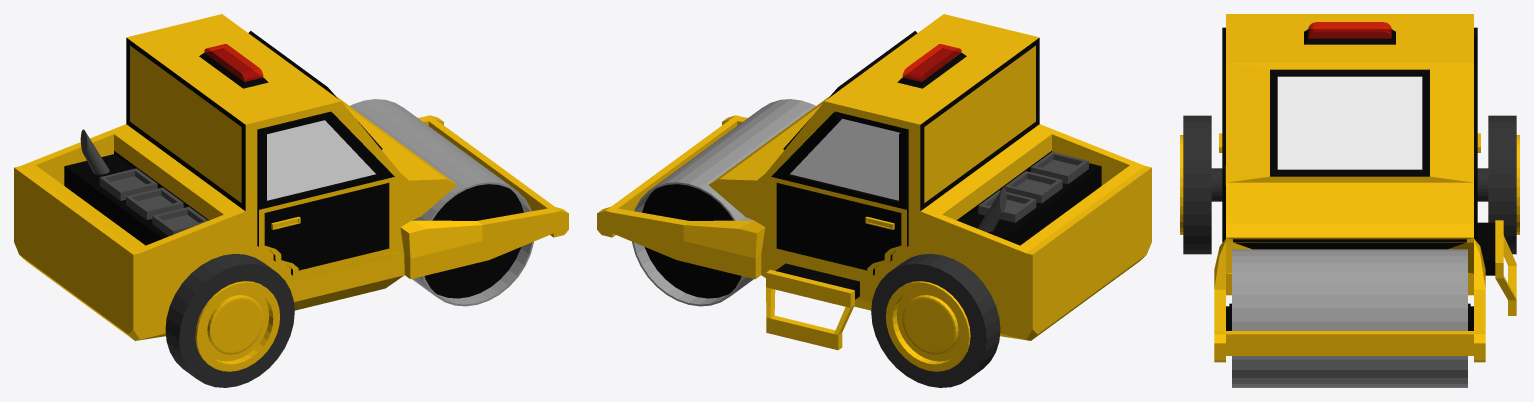
The model's file is ToySteamroller.glb.
The picture shows the model from 3 angles, left to right: view 1: azimuth 30°, elevation 25°; view 2: azimuth 150°, elevation 25°; view 3: azimuth 270°, elevation 25°; orthographic projection. The views are drawn at different scales.
Parts seen in each view (by area): view 1: Cabin, Back Wheels, Roller, Grates, Exhaust; view 2: Cabin, Back Wheels, Roller, Grates, Exhaust; view 3: Cabin, Roller, Back Wheels.
Part boxes in pixels (left/top/right/bottom): Cabin: left=14, top=14, right=568, bottom=340; Back Wheels: left=165, top=253, right=294, bottom=387; Roller: left=350, top=99, right=533, bottom=306; Grates: left=99, top=168, right=207, bottom=236; Exhaust: left=80, top=129, right=109, bottom=174; Cabin: left=597, top=14, right=1151, bottom=350; Back Wheels: left=871, top=253, right=1000, bottom=387; Roller: left=632, top=99, right=815, bottom=306; Grates: left=978, top=152, right=1088, bottom=222; Exhaust: left=977, top=187, right=1006, bottom=232; Cabin: left=1214, top=14, right=1516, bottom=362; Roller: left=1232, top=249, right=1467, bottom=387; Back Wheels: left=1180, top=115, right=1519, bottom=254.
Size of the model in its own units: 1.13 by 0.63 by 0.7464.
